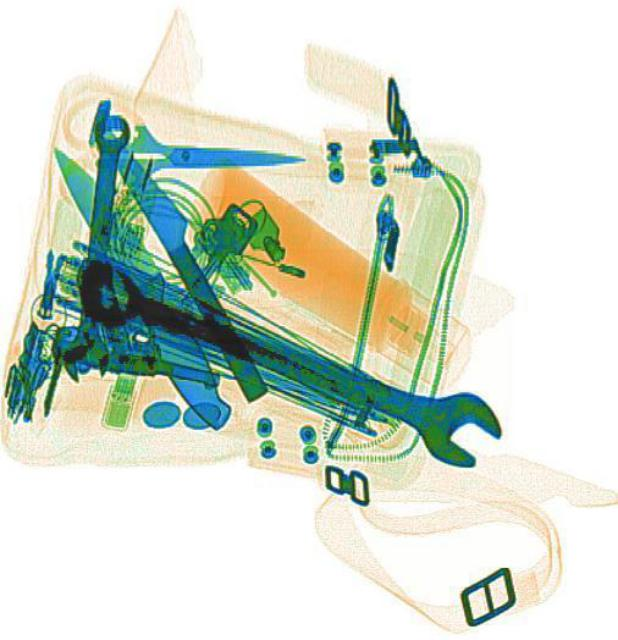Gun: (57, 254, 238, 392)
Knife: (30, 134, 245, 436), (74, 110, 279, 400), (98, 122, 305, 186)
Wrench: (61, 243, 509, 475), (48, 108, 142, 382)
